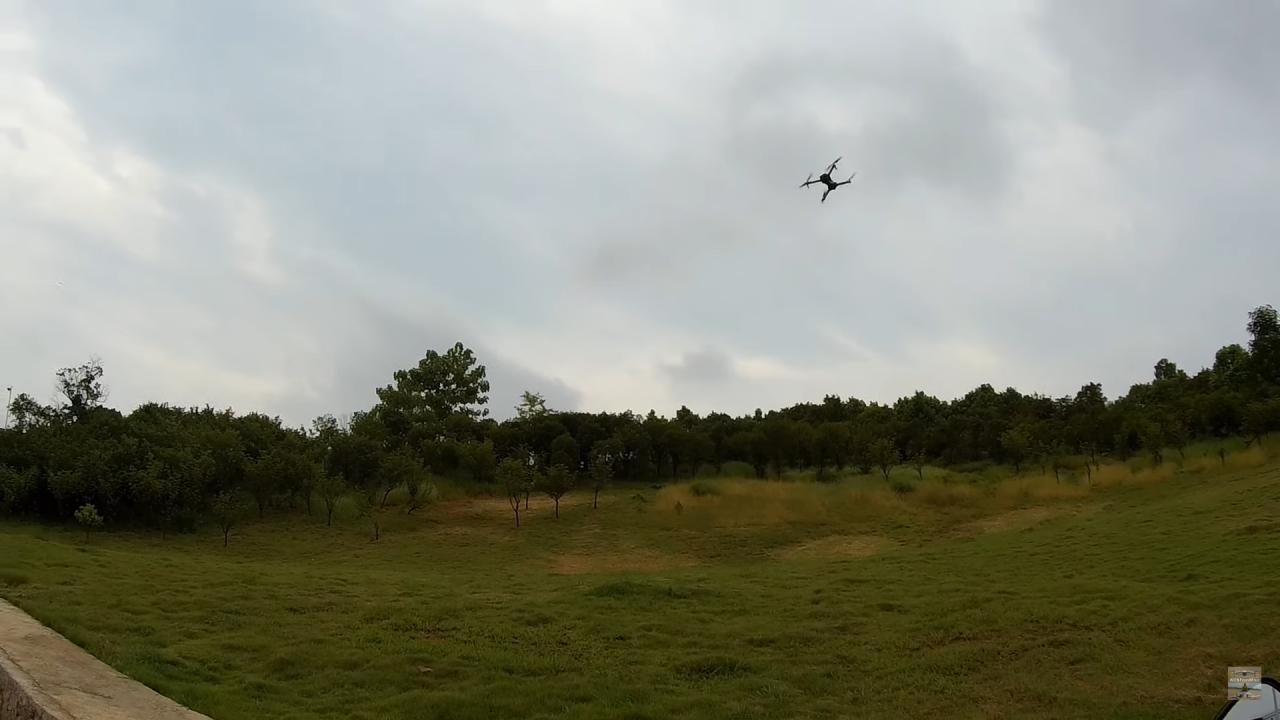Drone: (792, 148, 864, 216)
